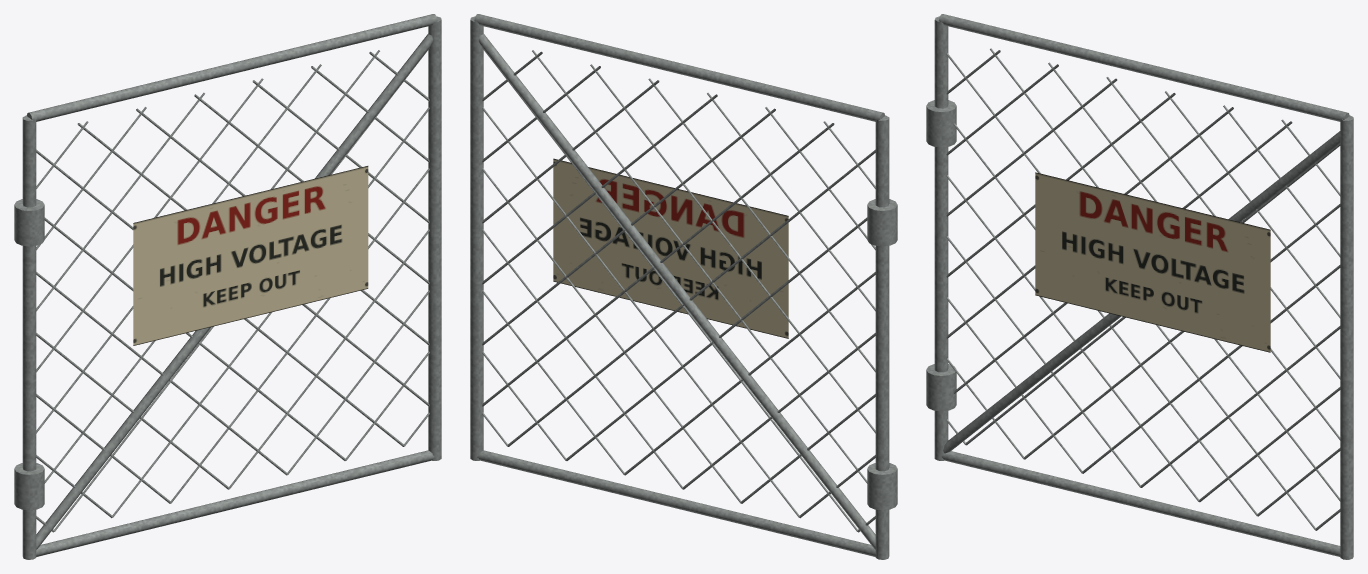
Rendered from SM_Substation_Gate_L_LOD1.fbx.
The picture shows the model from 3 angles, left to right: view 1: azimuth 30°, elevation 25°; view 2: azimuth 150°, elevation 25°; view 3: azimuth 330°, elevation 25°; orthographic projection.
Visible parts, largest first — view 1: SM_Substation_Gate_L_LOD1; view 2: SM_Substation_Gate_L_LOD1; view 3: SM_Substation_Gate_L_LOD1.
Part boxes in pixels (box(x1,y1,x2,y2)): SM_Substation_Gate_L_LOD1: box(14, 14, 441, 559); SM_Substation_Gate_L_LOD1: box(470, 14, 897, 559); SM_Substation_Gate_L_LOD1: box(926, 14, 1353, 559).
Size of the model in its own units: 2.26 by 0.14 by 2.26.
